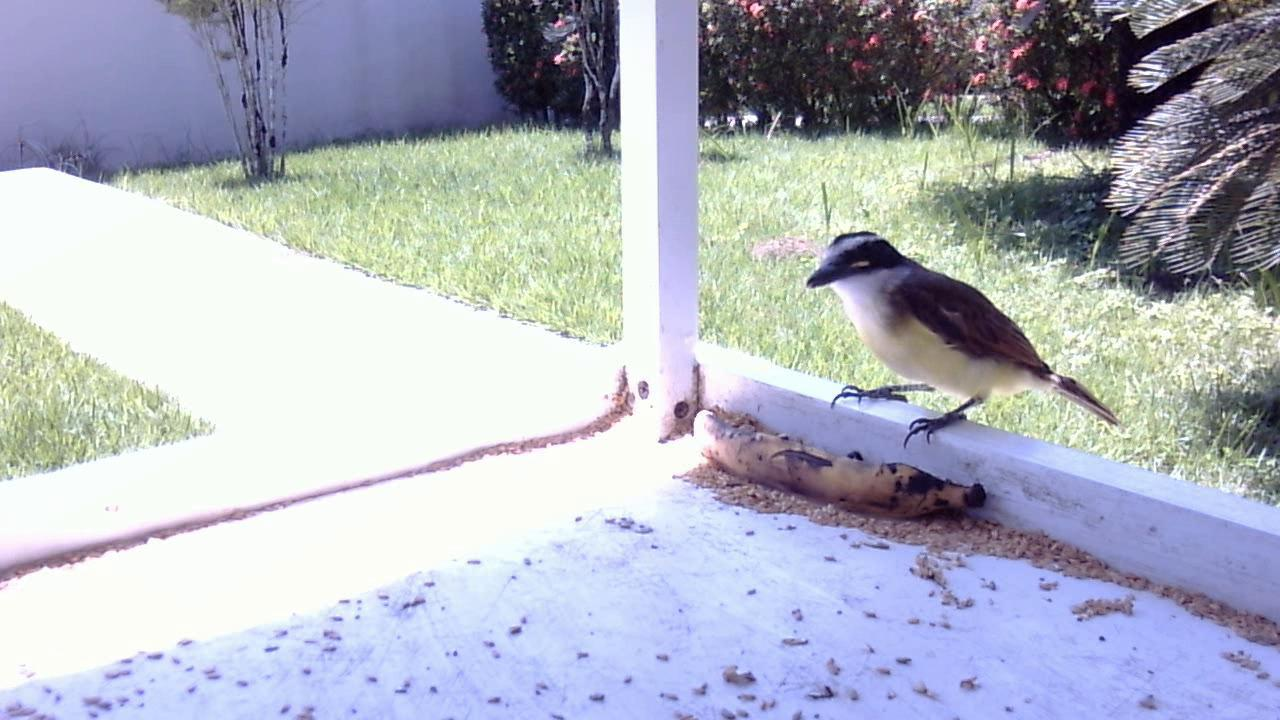bem_te_vi: (800, 227, 1128, 461)
